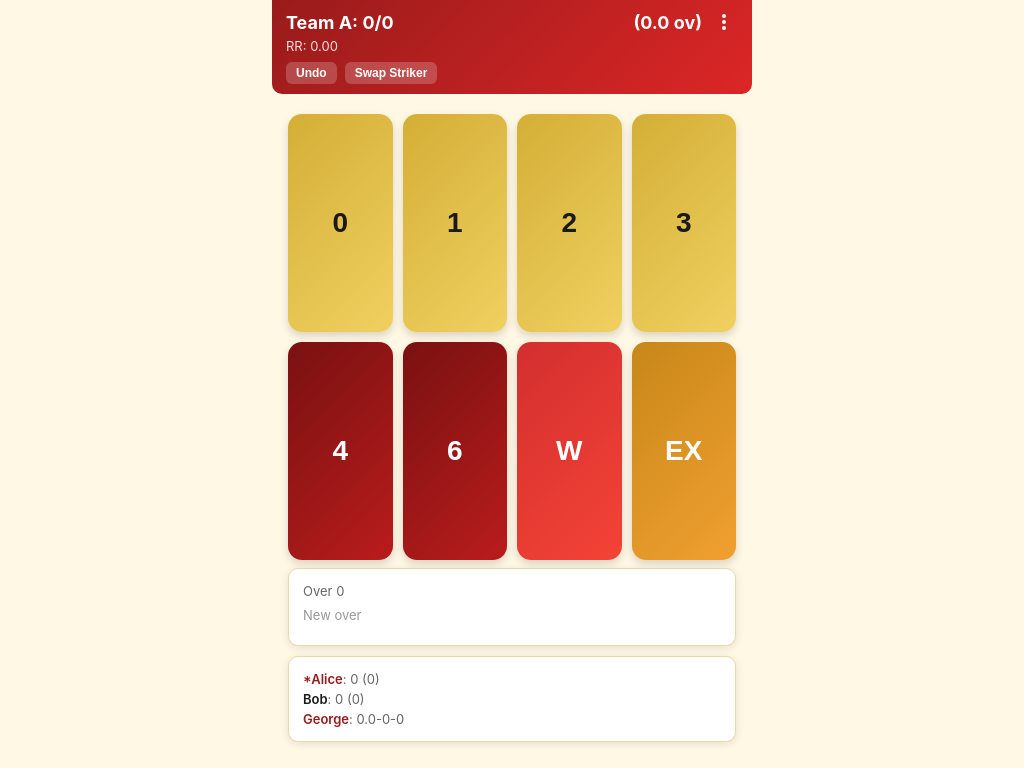
Test: ScoringV2 - scoring core › asks who is out for a run out
Click the button "W" at (569, 451), box left=517, top=342, right=622, bottom=560
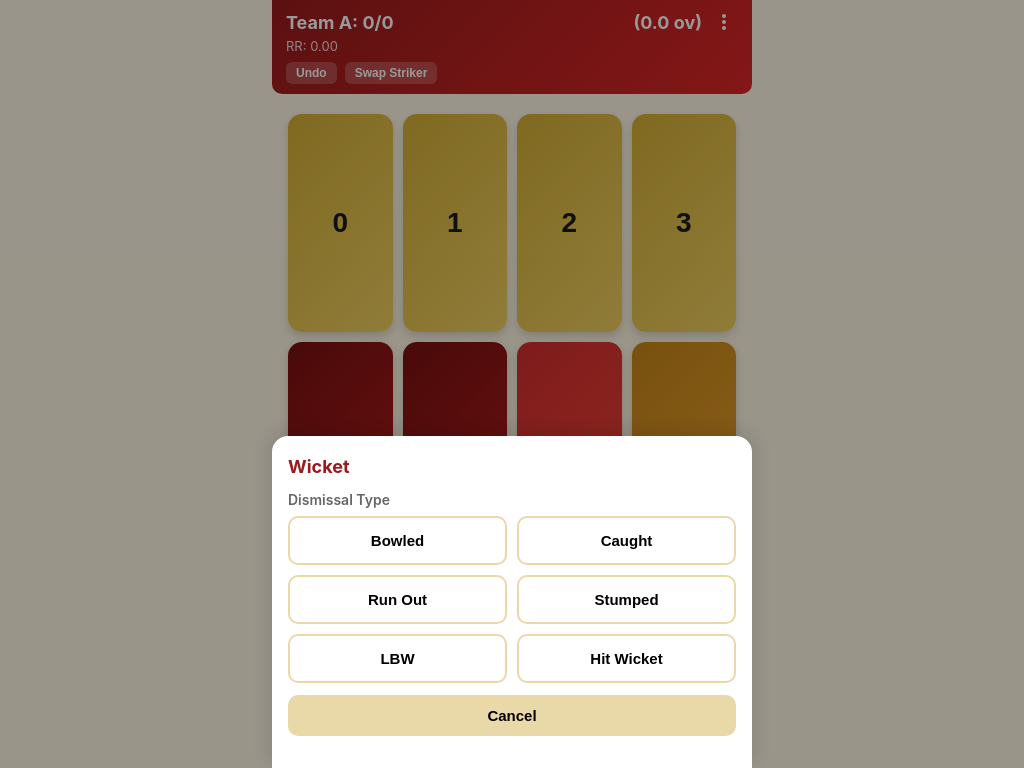
Click the button "Run Out" at (398, 600), box left=288, top=575, right=507, bottom=624
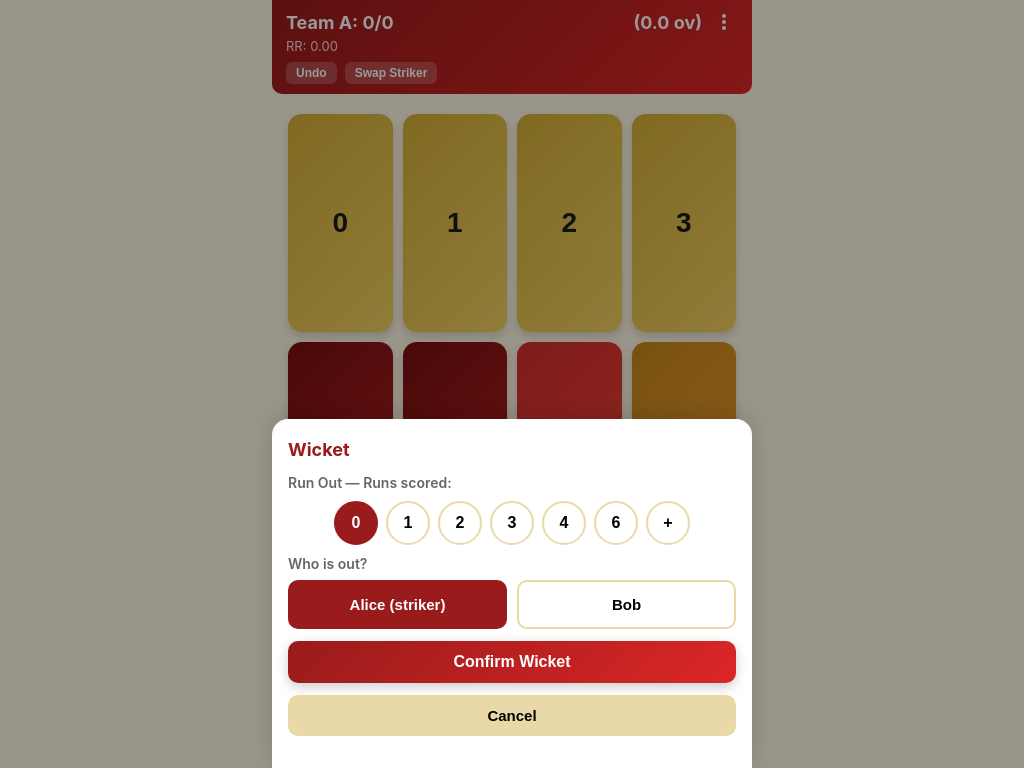
Now the text "Who is out?" is shown, box left=288, top=555, right=367, bottom=572
Click the button "Bob" at (626, 604), box left=517, top=580, right=736, bottom=629
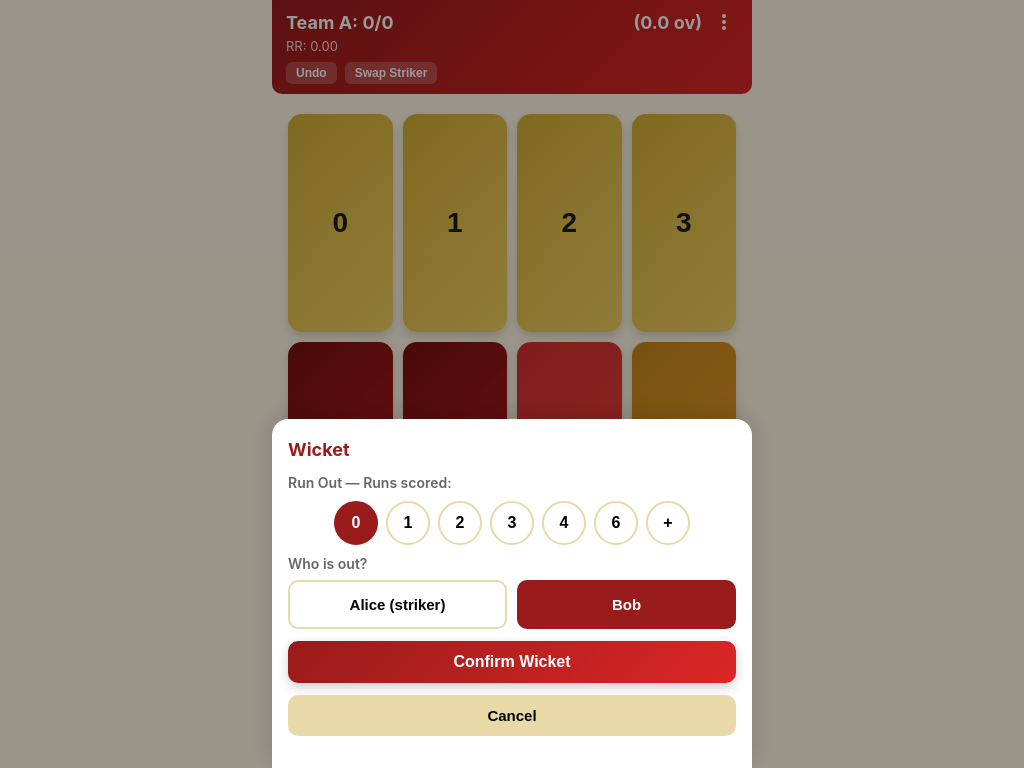
Click the button "Confirm Wicket" at (512, 662), box left=288, top=641, right=736, bottom=683
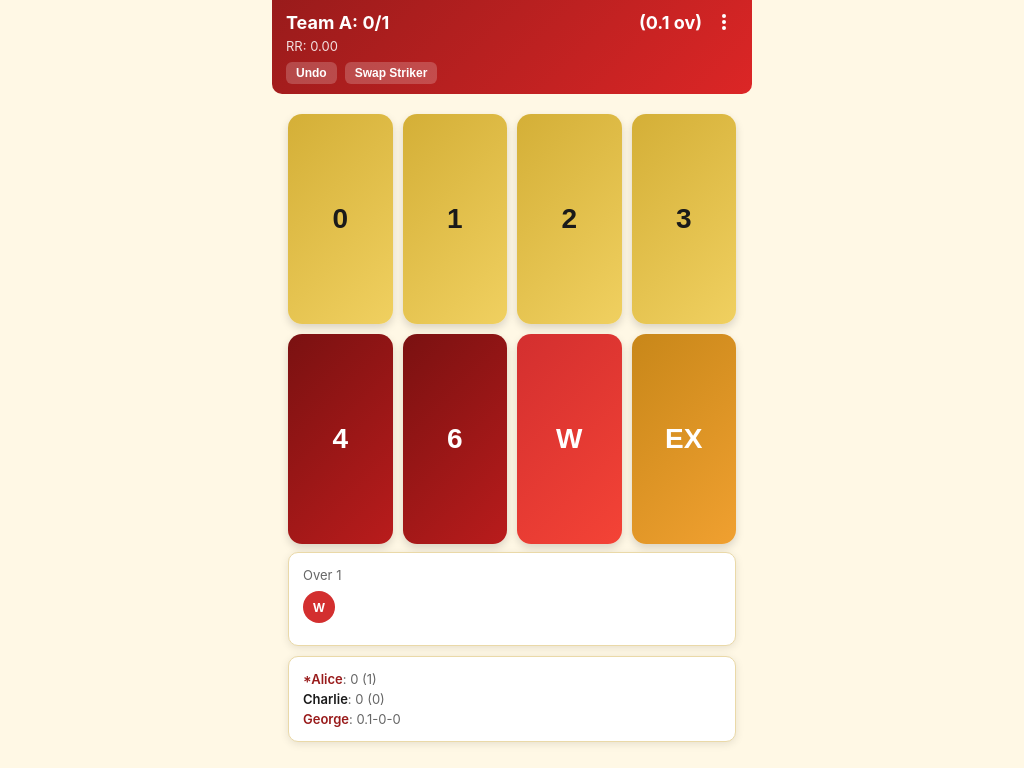
Now the text "Team A: 0/1" is shown, box left=286, top=12, right=389, bottom=32
